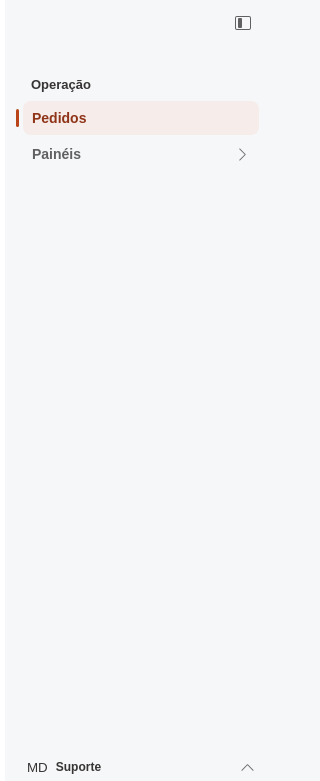
Test: Sidebar: pilha com vários níveis › o voltar sobe um nível e devolve o foco ao item de origem
The width and height of the screenshot is (320, 781).
Click the button "Painéis" at [141, 154], box [23,137,259,171]
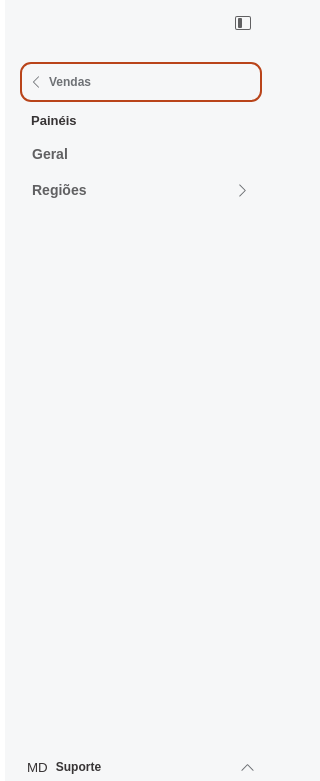
Click the button "Regiões" at [141, 190], box [23,173,259,207]
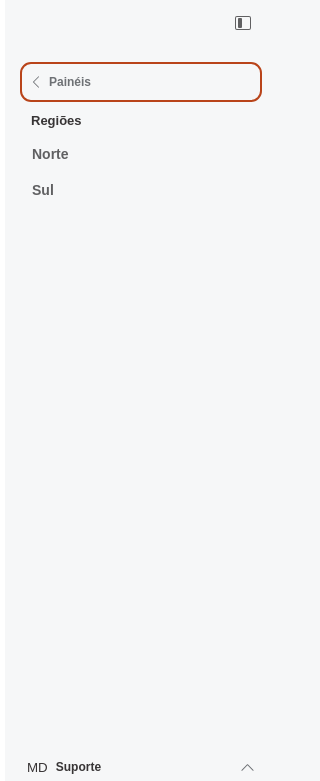
Click the button "Painéis" at [141, 82], box [23,65,259,99]
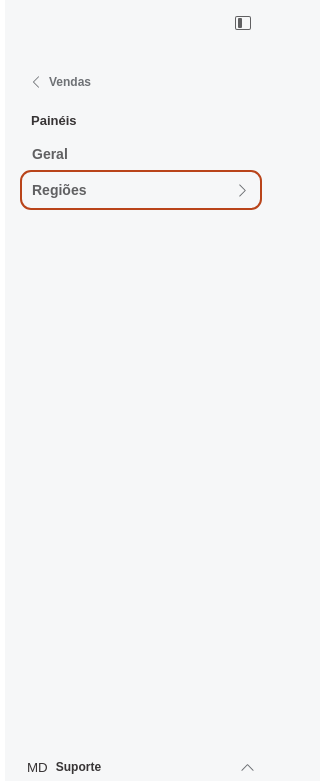
Result: the link "Geral" is shown at [32,146,68,162]
Result: the button "Vendas" is shown
Result: the link "Norte" is gone
Click the button "Vendas" at [141, 82], box [23,65,259,99]
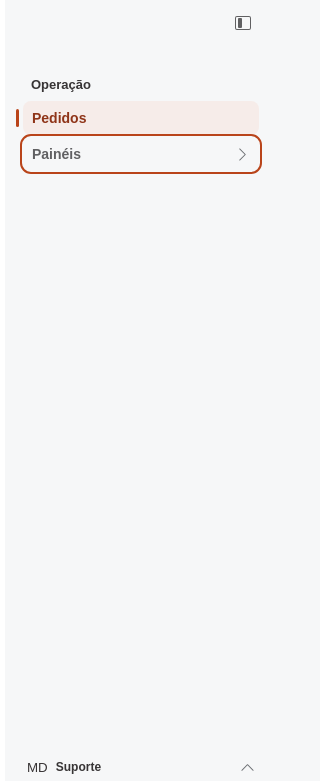
Result: the link "Pedidos" is shown at [23,101,259,135]
Result: the text "Operação" is shown at [31,77,91,92]
